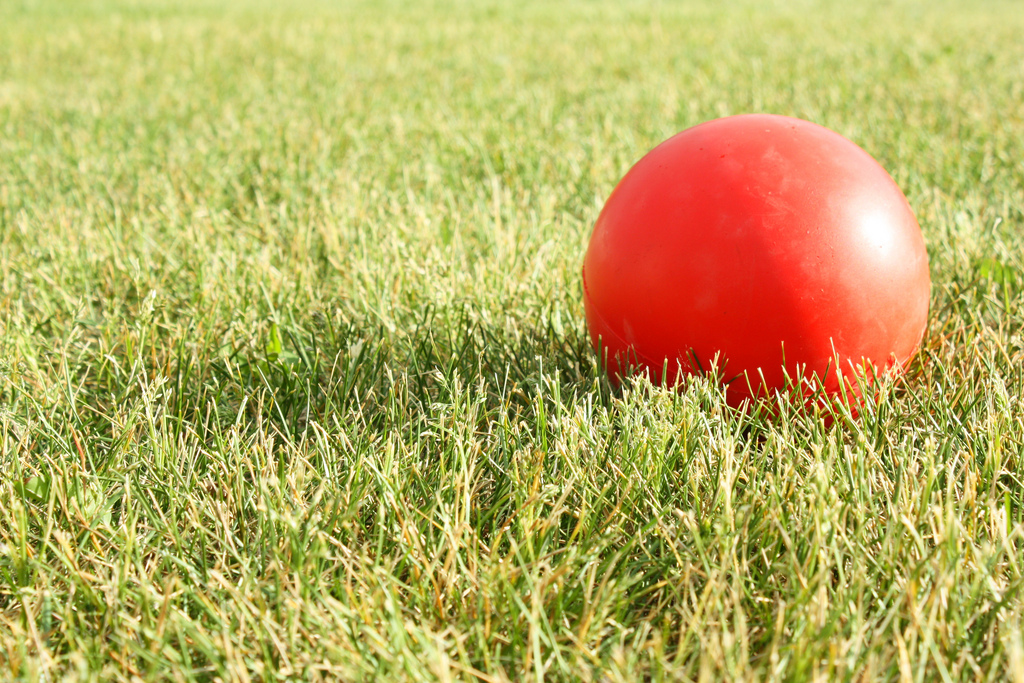red ball: (582, 114, 935, 421)
